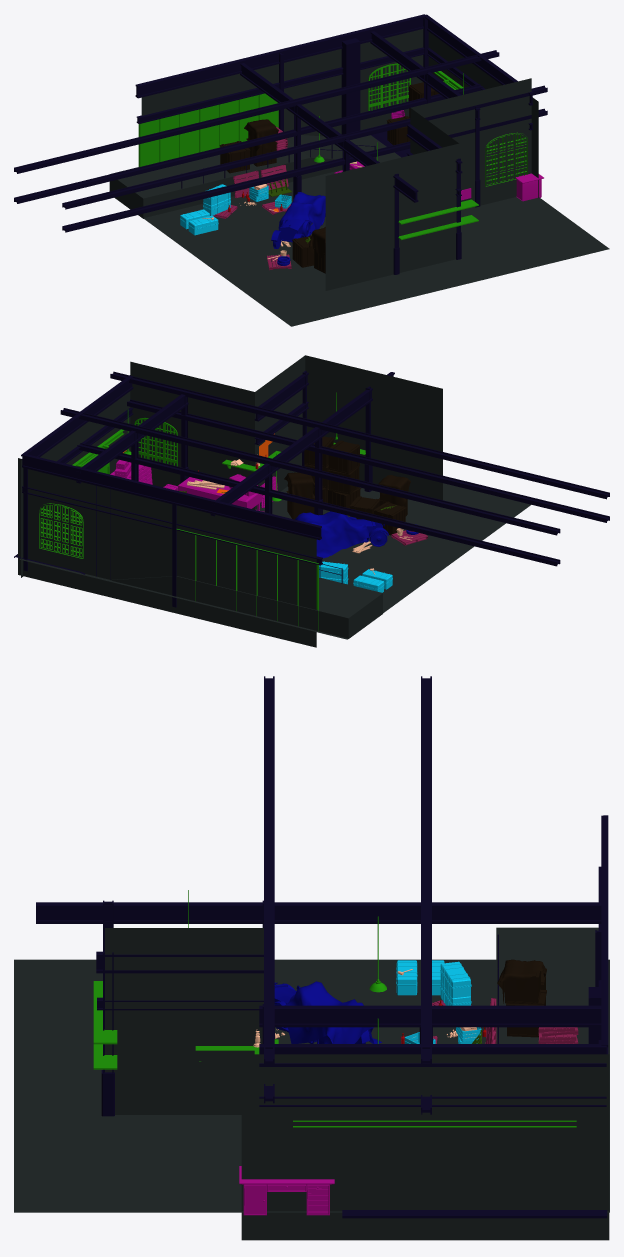
Rendered from planque_mafia_pack (3).FBX.
The picture shows the model from 3 angles, top to bottom: view 1: azimuth 30°, elevation 25°; view 2: azimuth 150°, elevation 25°; view 3: azimuth 270°, elevation 25°; orthographic projection. The views are drawn at different scales.
Visible parts, largest first — view 1: sol, mur_fenetre, mur_gauche, Box062, Box092, Box089, Box087, Box090, Box088, Box086, Box091, mur_gauche002 (+21 smaller); view 2: mur_gauche, mur_fenetre, sol, Box062, Box092, Box089, Box090, Box087, Box088, royce, Box086, mur_gauche002 (+18 smaller); view 3: mur_gauche002, sol, mur_fenetre, Box086, Box085, Box062, Box084, Box089, Box090, royce, Box112, bureau_meuble (+8 smaller).
Part boxes in pixels (box(x1,y1,x2,y2)): sol: box(116, 135, 609, 326); mur_fenetre: box(325, 78, 531, 290); mur_gauche: box(141, 29, 423, 136); Box062: box(109, 135, 349, 218); Box092: box(135, 14, 426, 98); Box089: box(14, 50, 499, 173); Box087: box(14, 84, 483, 203); Box090: box(62, 85, 547, 209); Box088: box(62, 108, 547, 232); Box086: box(240, 63, 418, 202); Box091: box(136, 47, 424, 123); mur_gauche002: box(428, 32, 538, 197); mur_gauche: box(18, 458, 316, 647); mur_fenetre: box(130, 355, 442, 509); sol: box(20, 483, 531, 639); Box062: box(110, 576, 382, 638); Box092: box(22, 454, 321, 540); Box089: box(60, 408, 560, 535); Box090: box(110, 371, 609, 499); Box087: box(77, 443, 560, 566); Box088: box(127, 399, 609, 522); royce: box(295, 511, 388, 558); Box086: box(210, 372, 394, 516); mur_gauche002: box(21, 391, 130, 577); mur_gauche002: box(241, 1054, 609, 1240); sol: box(14, 959, 609, 1212); mur_fenetre: box(105, 928, 263, 1114); Box086: box(36, 902, 601, 923); Box085: box(259, 1005, 601, 1027); Box062: box(496, 927, 598, 1043); Box084: box(259, 1044, 606, 1066); Box089: box(421, 676, 431, 1065); Box090: box(264, 676, 274, 1065); royce: box(274, 981, 381, 1043); Box112: box(342, 1210, 607, 1218); bureau_meuble: box(239, 1166, 334, 1215).
Size of the model in its own units: 4440 by 1168 by 2921.
